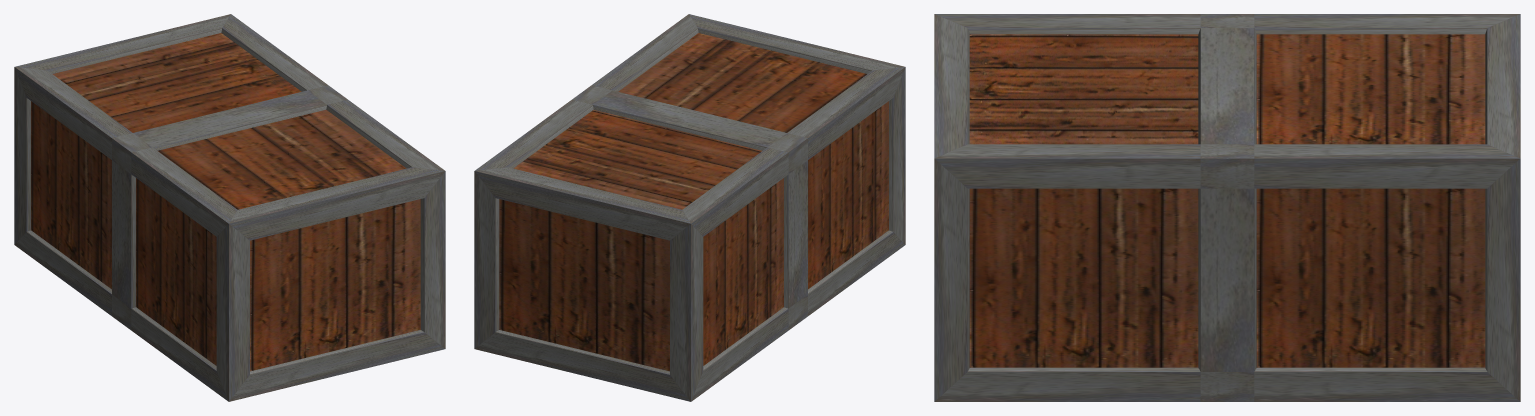
File: Crate_Large.FBX
3 renders of one model, left to right at view 1: azimuth 30°, elevation 25°; view 2: azimuth 150°, elevation 25°; view 3: azimuth 270°, elevation 25°, orthographic. The views are drawn at different scales.
Parts seen in each view (by area): view 1: LCrate; view 2: LCrate; view 3: LCrate.
Part boxes in pixels (box(x1,y1,x2,y2)): LCrate: box(14, 14, 445, 401); LCrate: box(474, 14, 905, 401); LCrate: box(934, 14, 1520, 401).
Bounding box in the file's own units: 276 × 217 × 472.
Materials: 2 (2 with a texture image).
